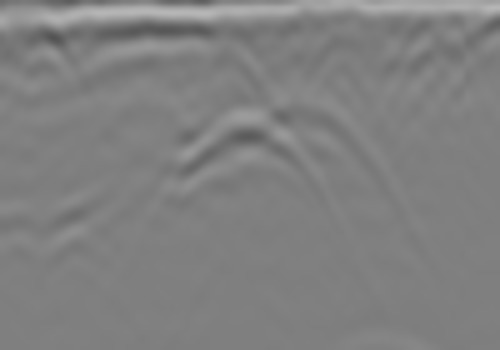hyperbola: (146, 102, 341, 245)
